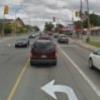cars: (87, 48, 100, 71), (15, 38, 30, 48), (57, 34, 70, 44)
